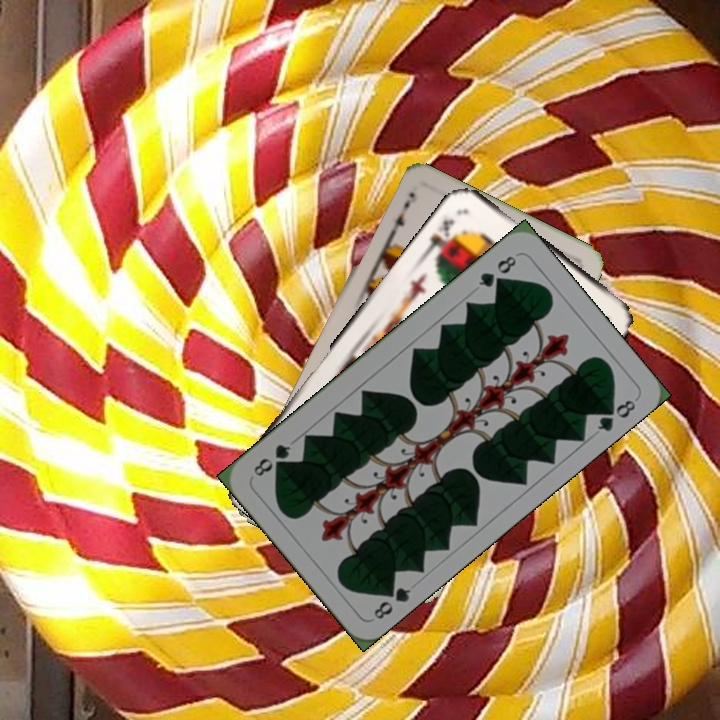E7: (384, 196, 413, 241)
G8: (369, 580, 414, 622), (474, 251, 520, 291)
SK: (421, 215, 459, 261)
